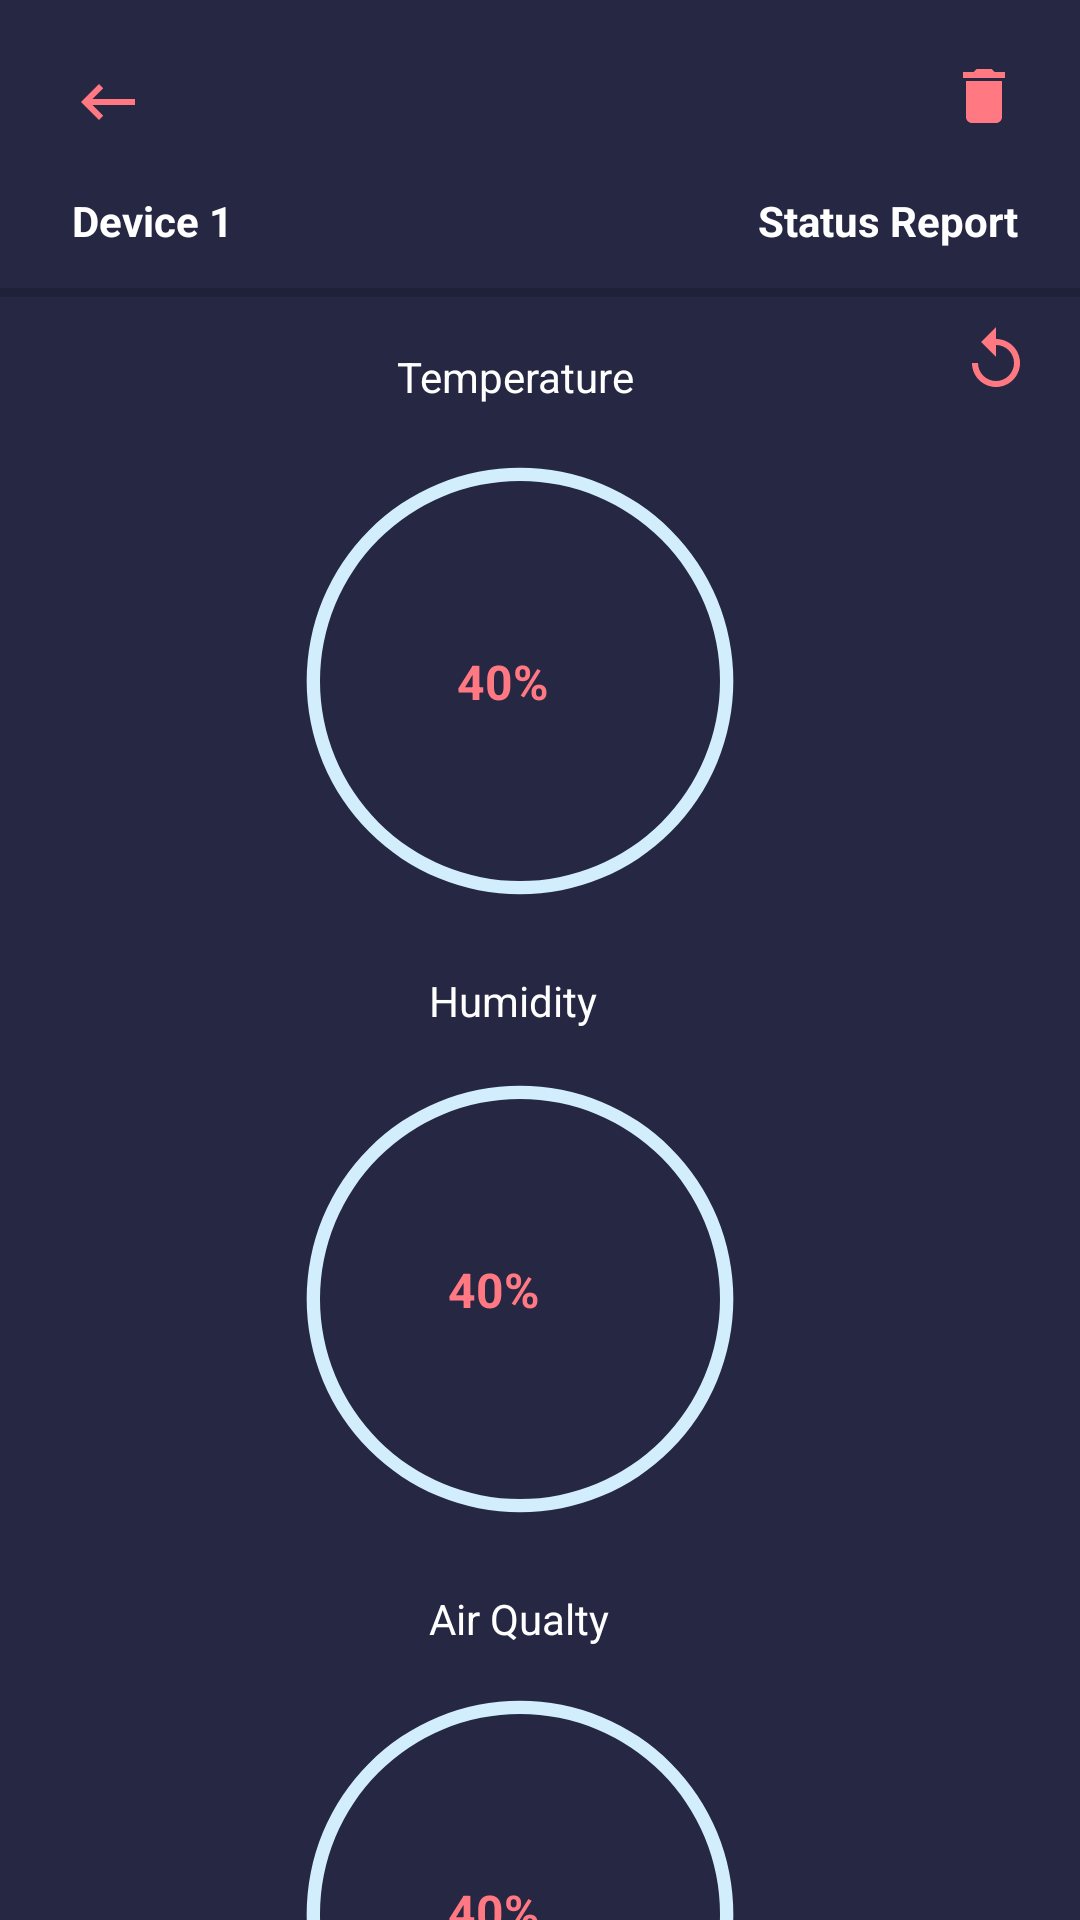

Locate icon controls on the screen. Image size 1080x1920, boxes as bbox=[x1, y1, x2, y2].
delete: bbox=[963, 69, 1005, 123]
keyboard backspace: bbox=[81, 84, 135, 120]
replay: bbox=[972, 327, 1020, 387]
